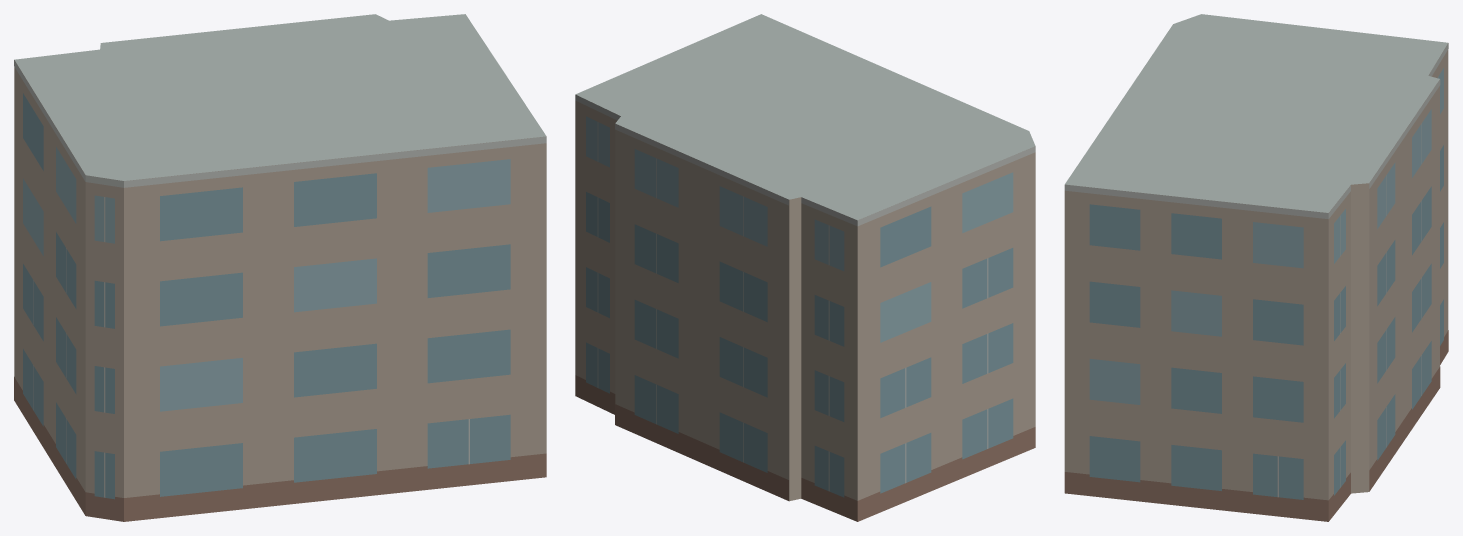
The model's file is survey-upis-32714831.glb.
The picture shows the model from 3 angles, left to right: view 1: azimuth 30°, elevation 25°; view 2: azimuth 150°, elevation 25°; view 3: azimuth 270°, elevation 25°; orthographic projection. The views are drawn at different scales.
Visible parts, largest first — view 1: survey-upis-32714831.tmp; view 2: survey-upis-32714831.tmp; view 3: survey-upis-32714831.tmp.
Part boxes in pixels (left/top/right/bottom): survey-upis-32714831.tmp: left=14, top=14, right=546, bottom=521; survey-upis-32714831.tmp: left=575, top=14, right=1035, bottom=521; survey-upis-32714831.tmp: left=1064, top=14, right=1448, bottom=521.
Size of the model in its own units: 16.87 by 12.2 by 13.75.
